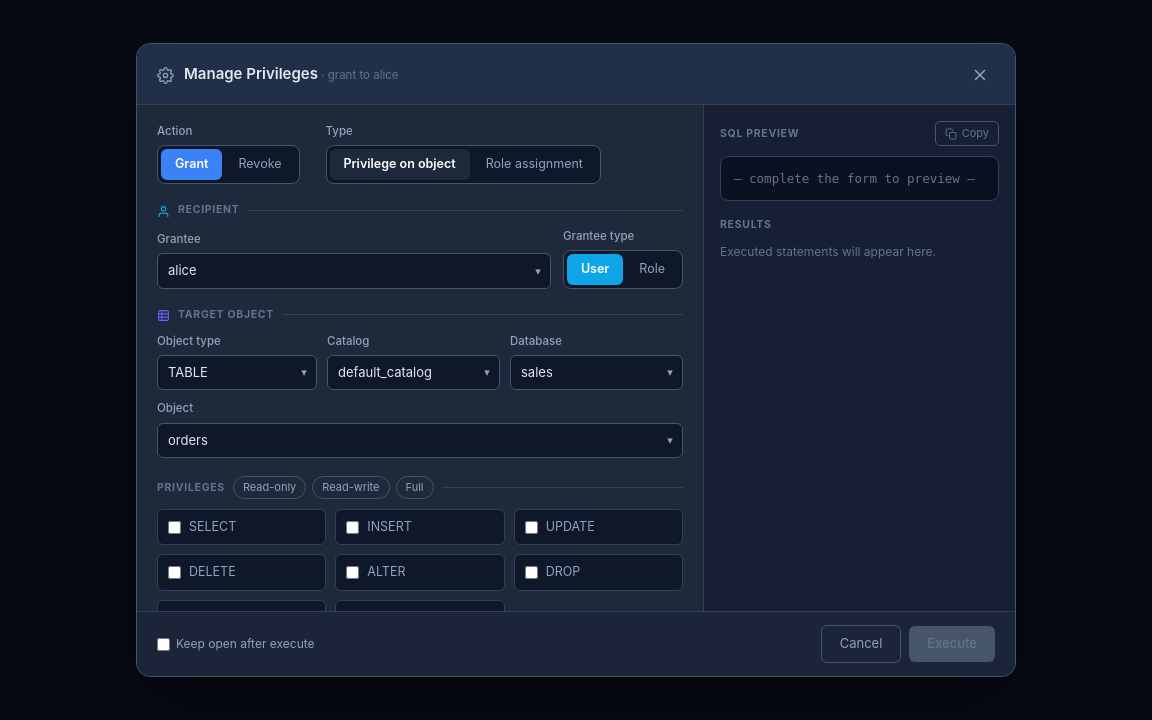
Test: ManagePrivilegesModal › shows the privilege checkboxes from the spec and previews on completion
Click the checkbox with test id "mp-priv-SELECT": (174, 527) [168, 521, 181, 534]
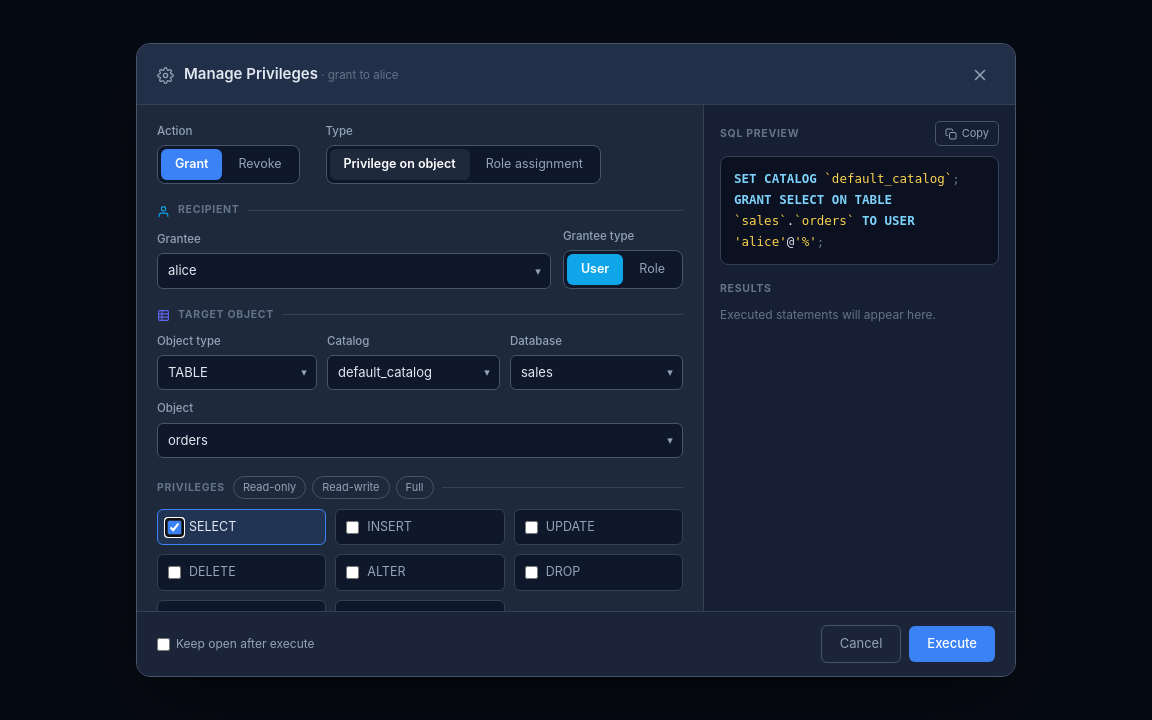
Now the button with test id "mp-execute" is enabled, box [909, 626, 995, 662]
